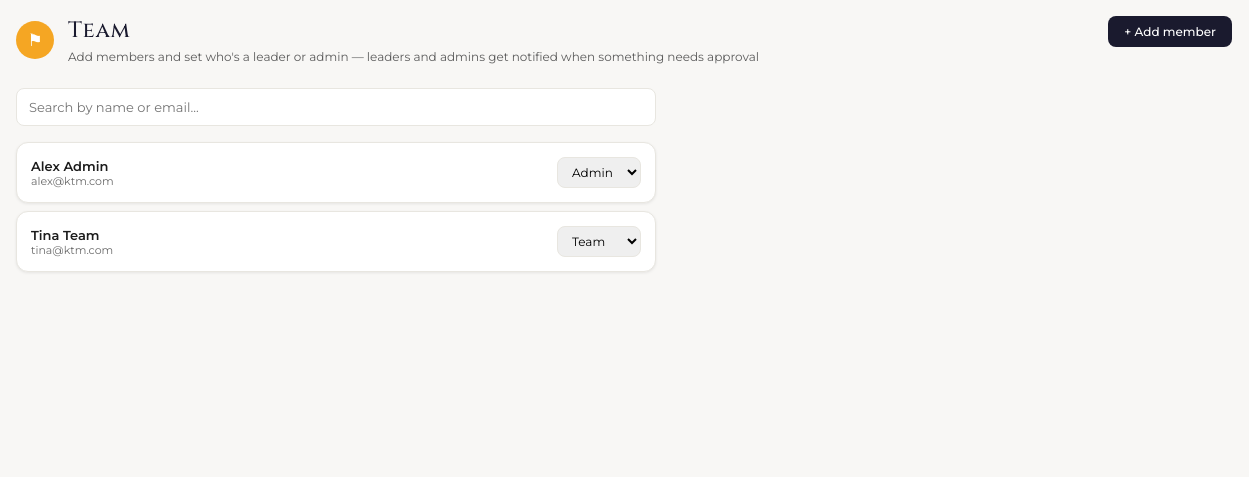
Scenario: sending an invite posts the email/name/role and shows it in the pending list
Expected: the text "Alex Admin" is shown, [31,158,114,174]
Click the button "+ Add member". click: (1170, 32)
box: [1108,16,1232,47]
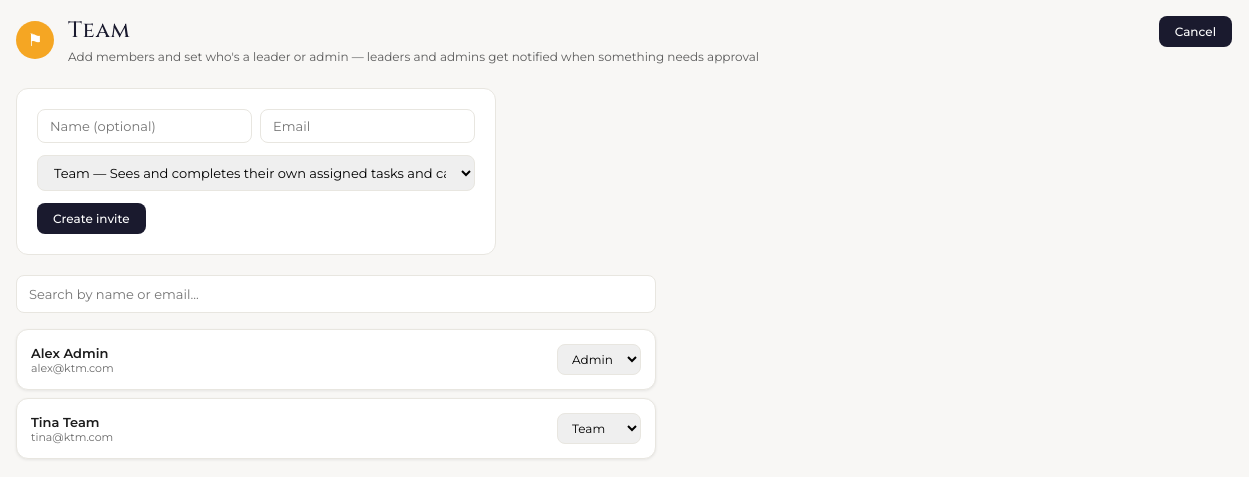
Type "New Person" into the field with placeholder "Name (optional)". click: (144, 126)
box: [37,109,252,143]
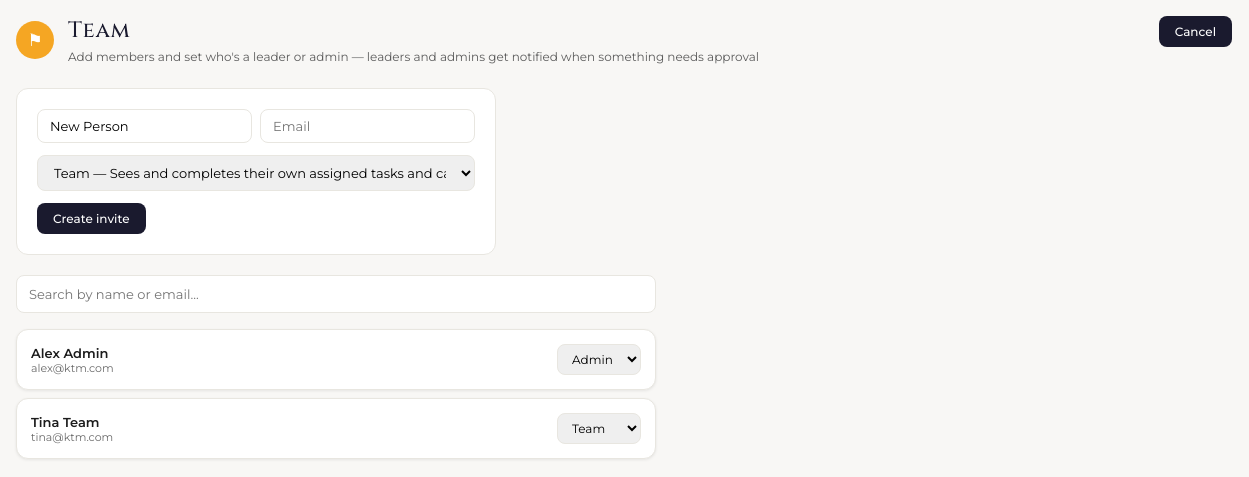
Type "newperson@ktm.com" into the field with placeholder "Email". click: (368, 126)
box: [260,109,475,143]
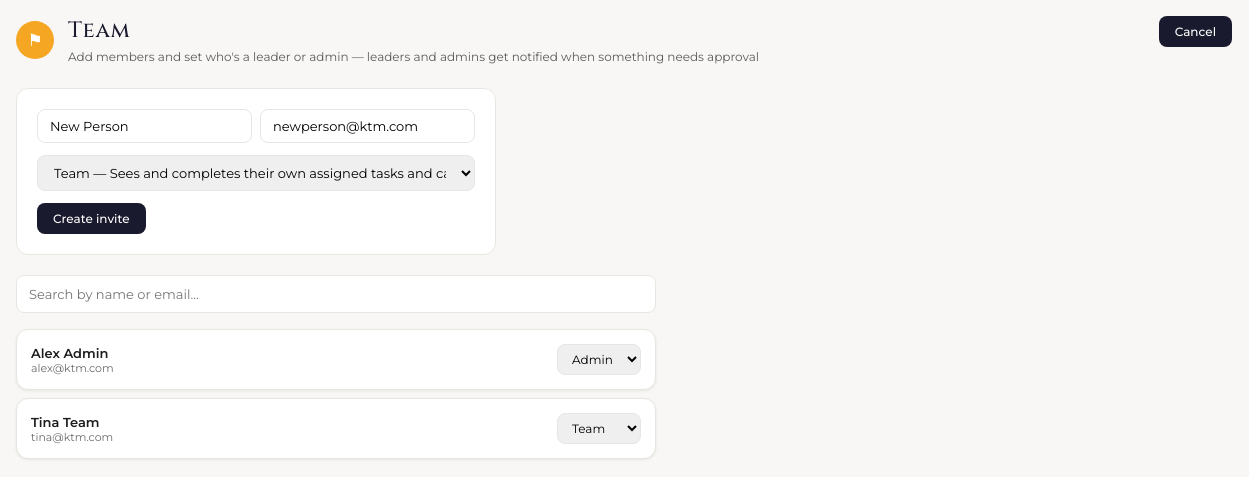
Click the button "Create invite". click: (91, 218)
box: [37,203,146,234]
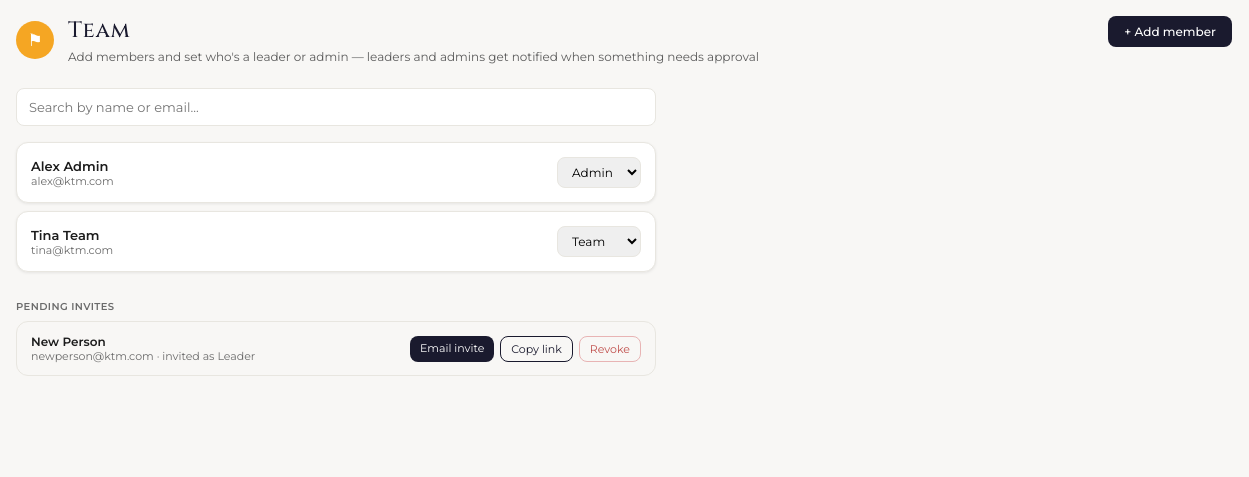
Now the text "Pending invites" is shown, box [16,300,114,313]
Now the text "newperson@ktm.com · invited as Leader" is shown, box [31,349,255,363]
